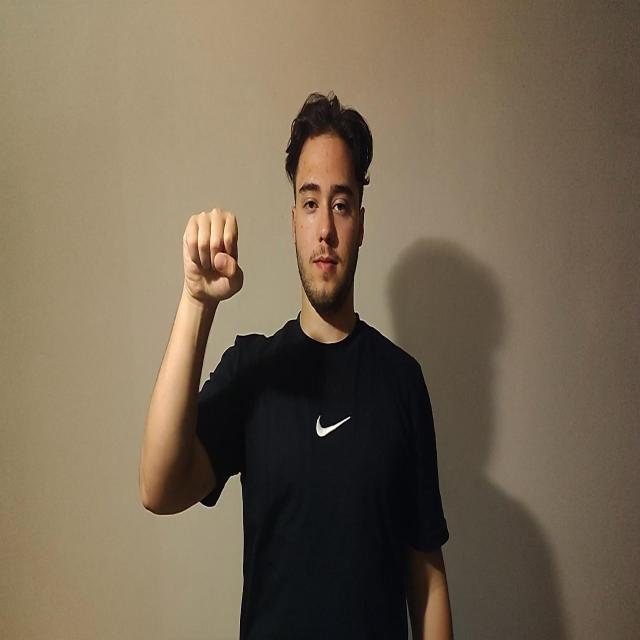yes: (182, 206, 244, 305)
